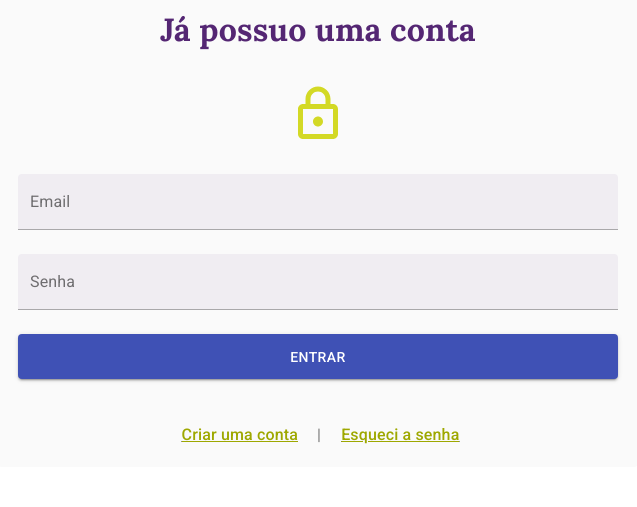
Test: should show a label error when click in 'Entrar' button without fill a valid email
Step 1. Type "renatop@" into the field with id "login-user-email" → x=318, y=202, box [18,174,618,230]
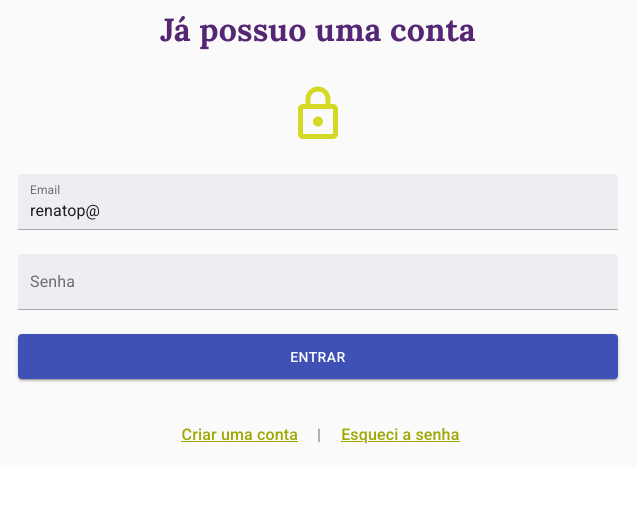
Step 2. Click the button with id "login-button" → x=318, y=357, box [18,334,618,379]
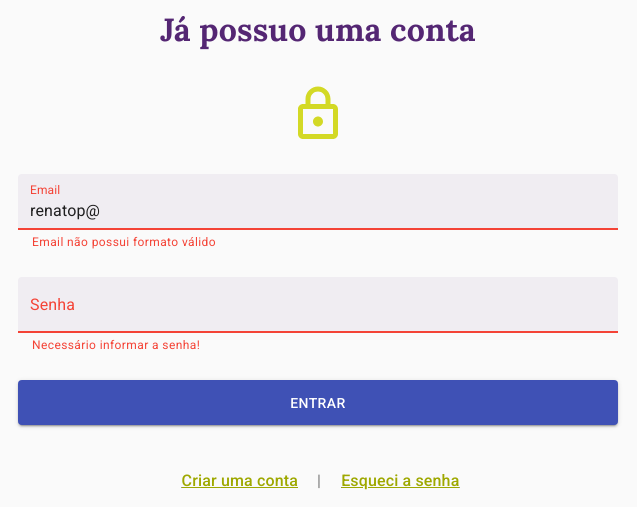
Check: the text "Email não possui formato válido" is shown, box [32,235,216,249]
